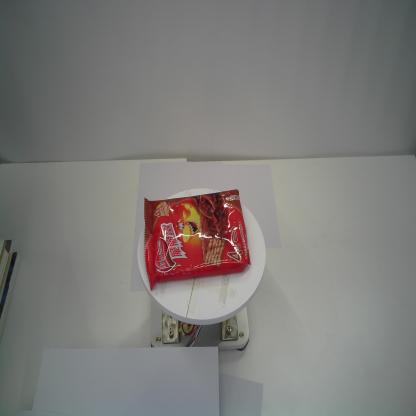Dessert: (143, 188, 251, 293)
